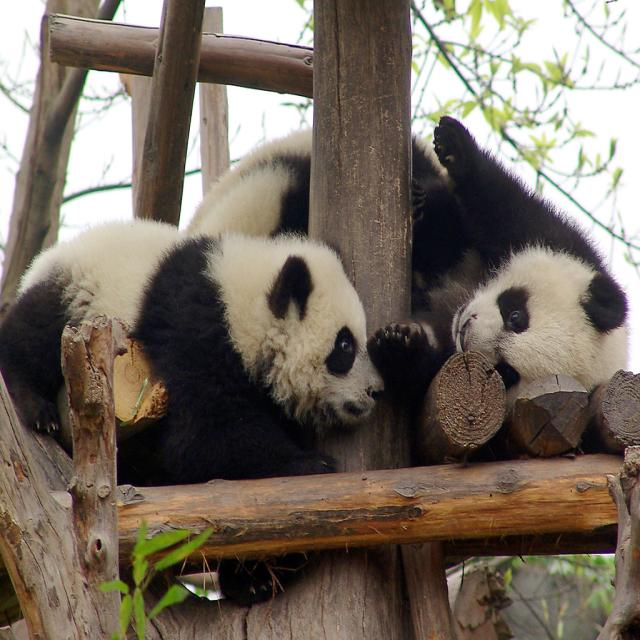panda: (0, 212, 386, 600), (185, 121, 630, 401)
